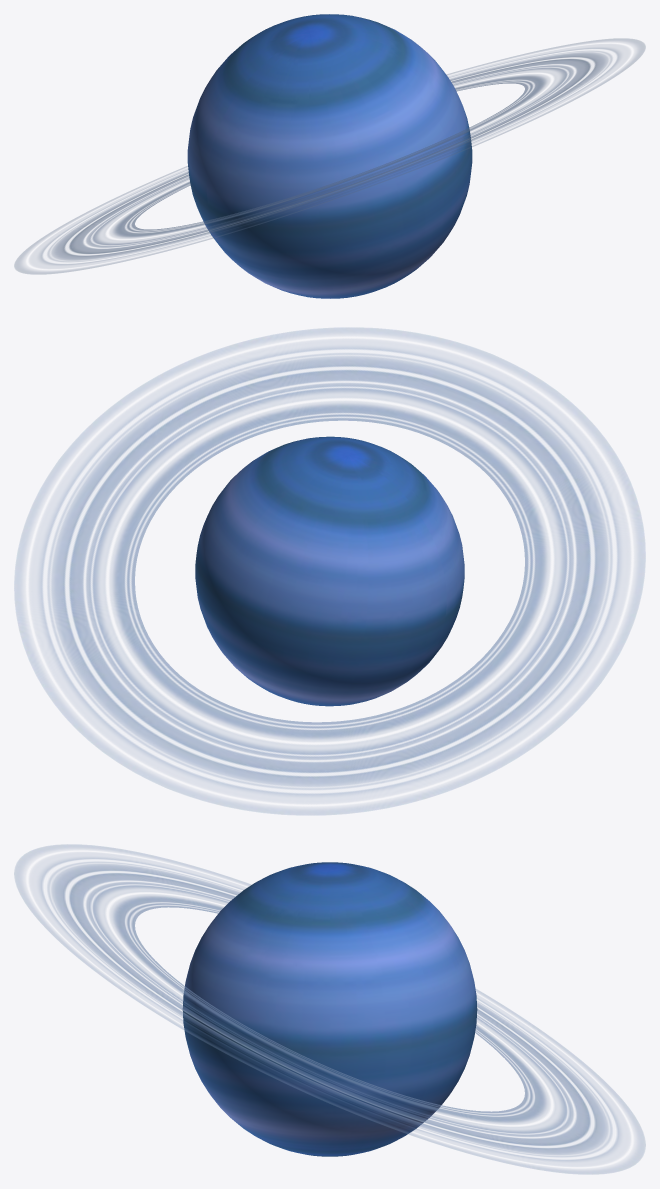
The model's file is blueplanet.glb.
3 views of the same model, one above another, from view 1: azimuth 30°, elevation 25°; view 2: azimuth 150°, elevation 25°; view 3: azimuth 270°, elevation 25° (orthographic). The views are drawn at different scales.
Visible parts, largest first — view 1: glint-ringed; view 2: glint-ringed; view 3: glint-ringed.
Part boxes in pixels (x1=…): glint-ringed: x1=14, y1=14, x2=645, y2=298; glint-ringed: x1=14, y1=327, x2=645, y2=815; glint-ringed: x1=14, y1=844, x2=645, y2=1174.
Bounding box in the file's own units: 4.65 × 2.03 × 4.29.
2 materials, 2 textured.
